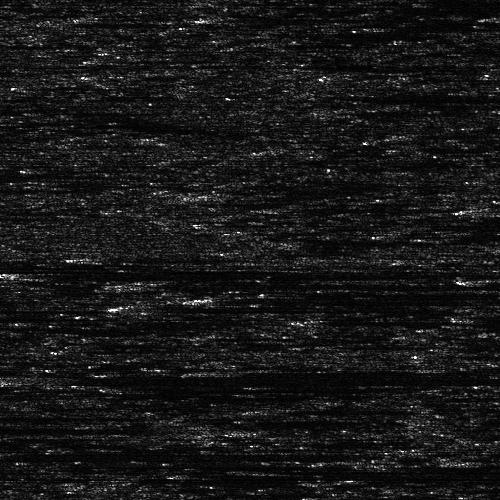rock: (0, 364, 139, 395), (49, 294, 206, 321), (131, 286, 288, 309), (235, 311, 422, 326), (130, 366, 255, 377), (167, 14, 230, 23), (75, 252, 138, 259), (243, 406, 306, 411), (432, 460, 495, 465), (199, 466, 262, 471), (0, 270, 34, 279), (0, 450, 29, 459), (465, 314, 500, 321), (459, 207, 500, 212)
shadow: (4, 364, 500, 395), (128, 294, 414, 321), (210, 286, 500, 309), (0, 270, 470, 279), (193, 366, 500, 377), (0, 450, 334, 459), (329, 311, 500, 326), (199, 14, 458, 23), (231, 466, 500, 471), (107, 252, 243, 259), (0, 313, 97, 322), (275, 406, 421, 411), (0, 412, 101, 419), (145, 284, 427, 285), (464, 460, 500, 465)
